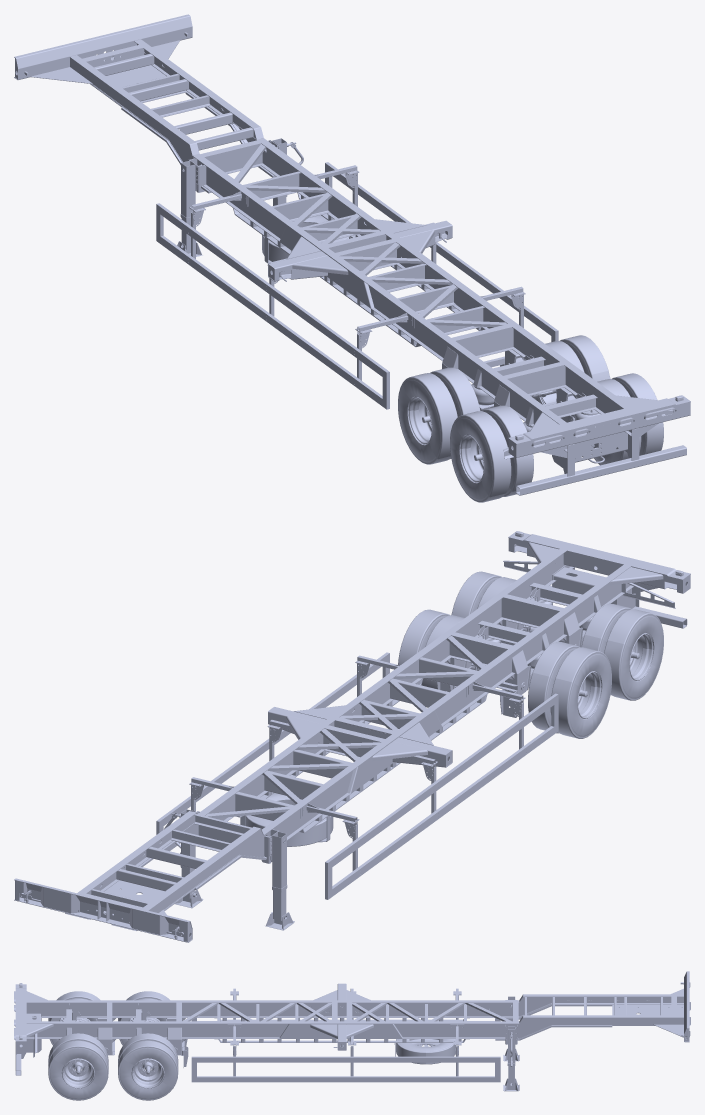
File: 40-20 Fijo Molino Remake-3.glb
The picture shows the model from 3 angles, top to bottom: view 1: azimuth 30°, elevation 25°; view 2: azimuth 150°, elevation 25°; view 3: azimuth 270°, elevation 25°; orthographic projection. The views are drawn at different scales.
Visible parts, largest first — view 1: empty_67, empty_124, empty_134, empty_362, empty_358, empty_468, empty_469, empty_130, empty_335, empty_478, empty_131, empty_360 (+21 smaller); view 2: empty_67, empty_124, empty_358, empty_362, empty_468, empty_469, empty_134, empty_359, empty_478, empty_131, empty_130, empty_68 (+29 smaller); view 3: empty_67, empty_124, empty_370, empty_376, empty_478, empty_477, empty_64, empty_32, empty_439, empty_18, empty_66, empty_71 (+20 smaller).
Boxes of the visible parts, x1,y1,x2,y2 form: empty_67: (168,139,567,451); empty_124: (232,122,631,436); empty_134: (14,14,192,79); empty_362: (450,411,511,502); empty_358: (398,373,457,464); empty_468: (156,203,389,376); empty_469: (156,236,386,409); empty_130: (508,402,690,457); empty_335: (516,445,686,495); empty_478: (325,162,557,335); empty_131: (508,395,690,444); empty_360: (482,405,533,496); empty_67: (239,564,633,857); empty_124: (183,549,574,835); empty_358: (550,647,611,738); empty_362: (604,609,663,700); empty_468: (325,693,558,867); empty_469: (328,726,558,899); empty_134: (14,878,192,942); empty_359: (528,642,579,733); empty_478: (157,652,389,825); empty_131: (508,531,690,580); empty_130: (508,538,690,593); empty_68: (149,829,264,912); empty_67: (26,1000,551,1017); empty_124: (26,1021,551,1038); empty_370: (48,1041,108,1100); empty_376: (118,1040,178,1100); empty_478: (191,1056,500,1062); empty_477: (192,1076,499,1082); empty_64: (518,1018,683,1038); empty_32: (279,1024,402,1038); empty_439: (396,1039,456,1064); empty_18: (612,1002,690,1025); empty_66: (519,994,683,1004); empty_71: (298,1003,385,1016).
Size of the model in its own units: 2515 by 1482 by 12350.
